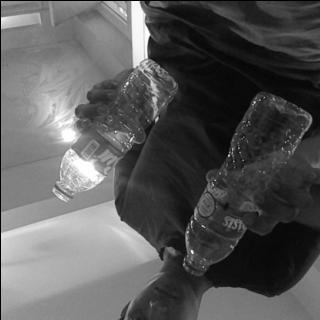plastic_bottles: (178, 100, 303, 276), (46, 56, 176, 205)
